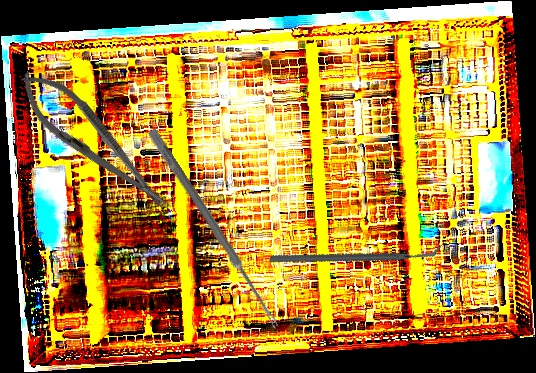Chopper: (268, 187, 444, 321)
Needle Holder: (6, 58, 181, 225)
Surgical Spoon: (146, 128, 282, 329)
